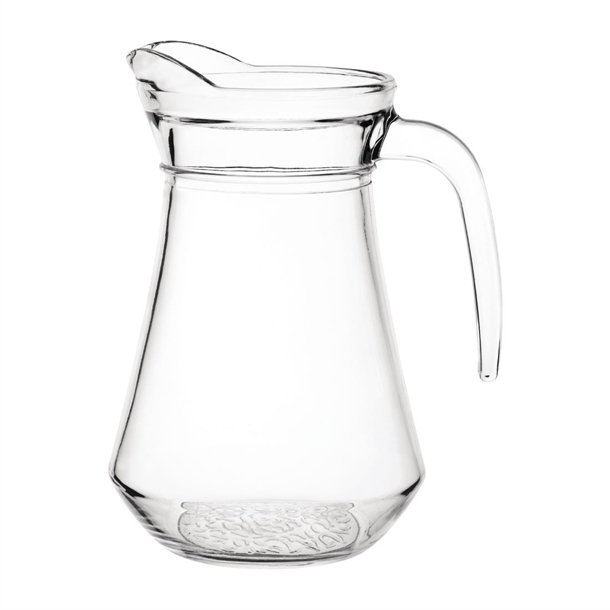glass: (107, 41, 504, 567)
